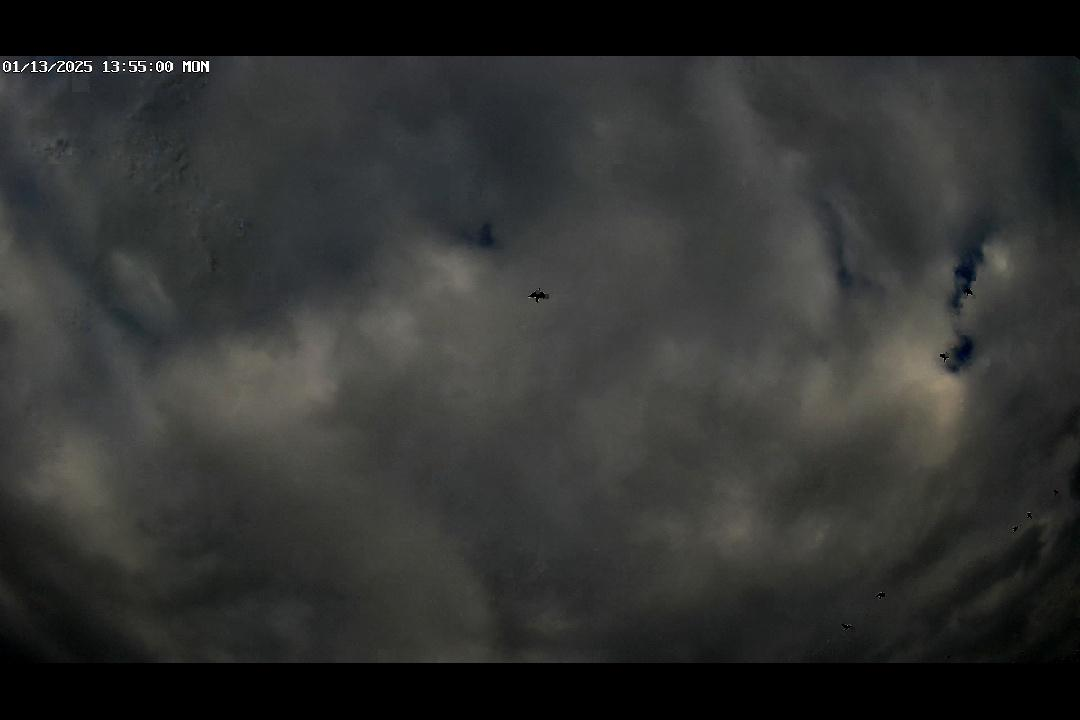Plane: (516, 284, 563, 306)
WildLife: (832, 618, 864, 633), (1042, 485, 1066, 502), (928, 349, 954, 363), (866, 589, 892, 602), (1023, 509, 1038, 520), (1007, 525, 1023, 535), (942, 652, 953, 663), (1019, 648, 1026, 656), (1008, 660, 1018, 664)
